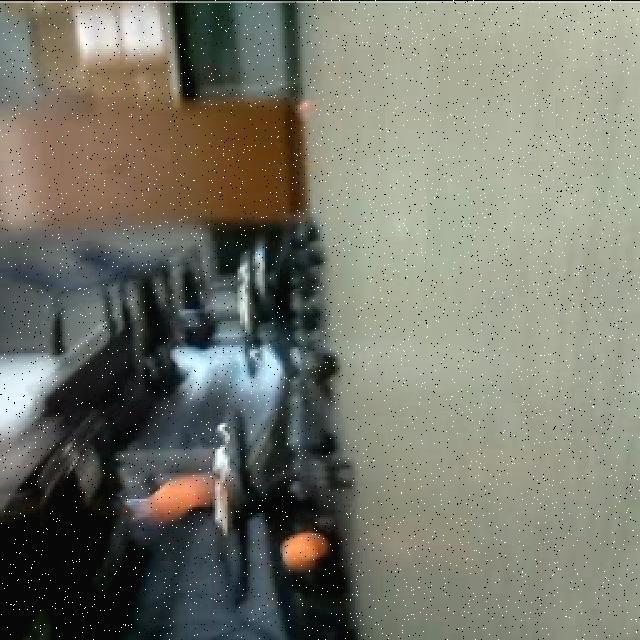ping-pong-ball: (278, 536, 340, 570)
